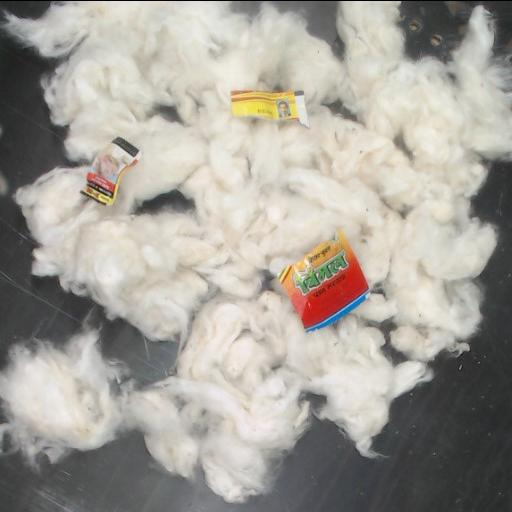conveyor belt: (0, 163, 511, 512), (0, 31, 176, 381), (401, 1, 511, 59), (271, 1, 342, 53), (0, 1, 51, 17), (143, 192, 188, 210), (234, 1, 261, 11)
cotton: (0, 1, 511, 502)
packet: (278, 236, 368, 331), (81, 137, 139, 205), (231, 90, 308, 126)
